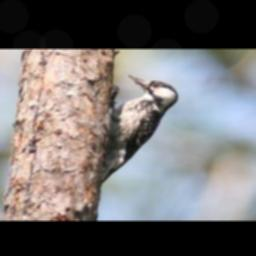Woodpecker: (100, 74, 179, 189)
